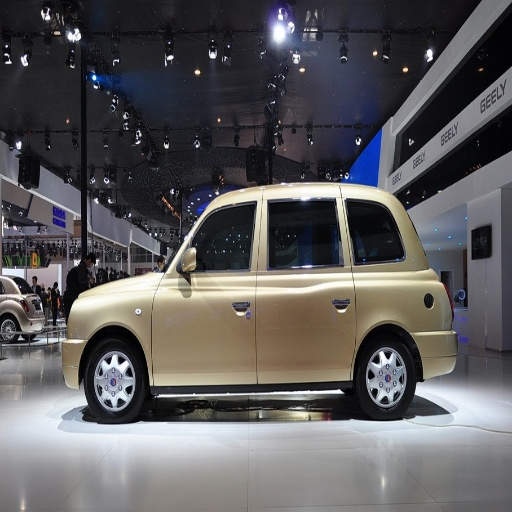trunk: (364, 280, 451, 373)
